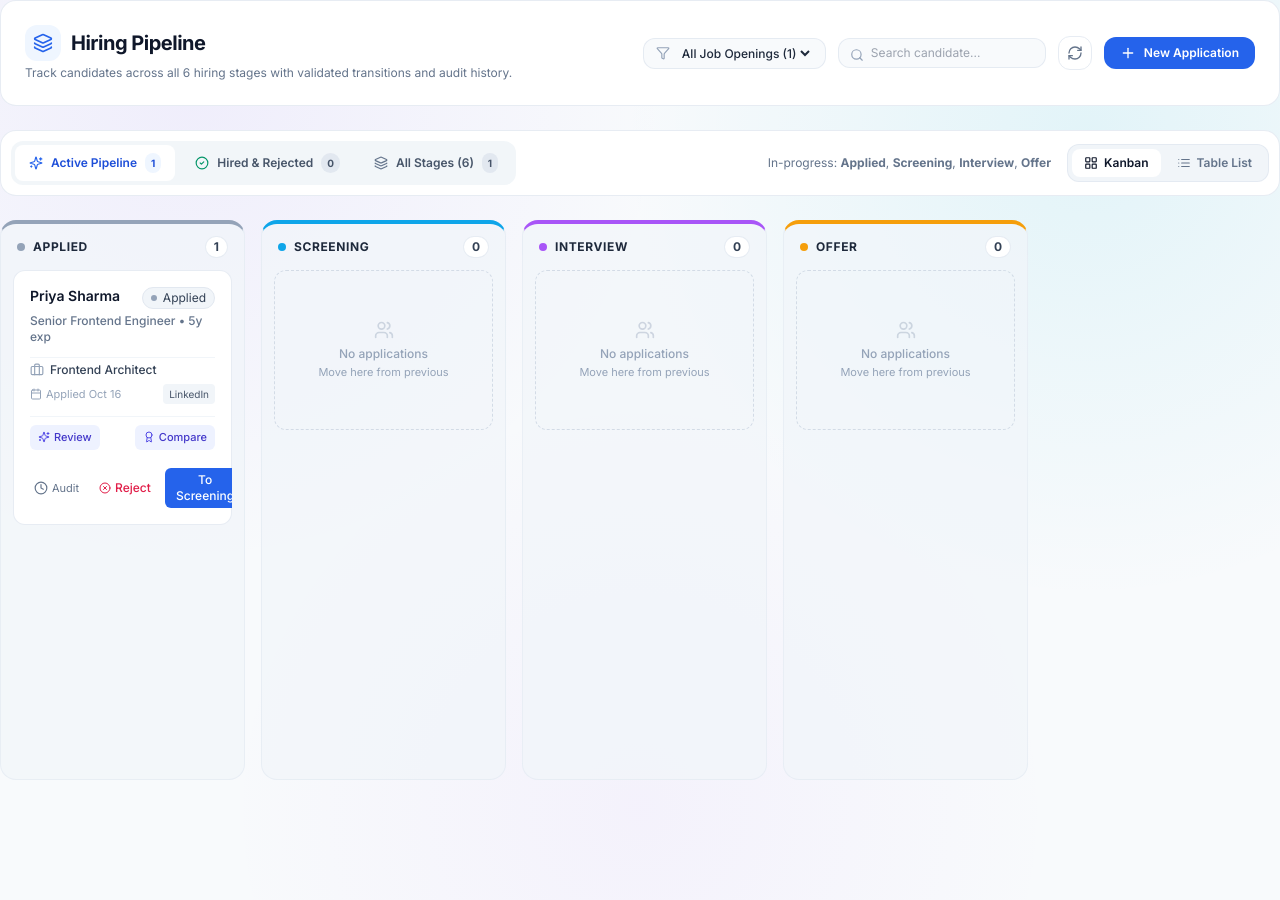
Test: PipelineView Component — Phase 5 UI Verification › 4. Opens rejection modal, enters optional reason, and submits rejection
Expected: the heading "Priya Sharma" is shown, [30,287,120,304]
Click the button named "Reject application for Priya Sharma": x=125, y=488 [91,476,159,500]
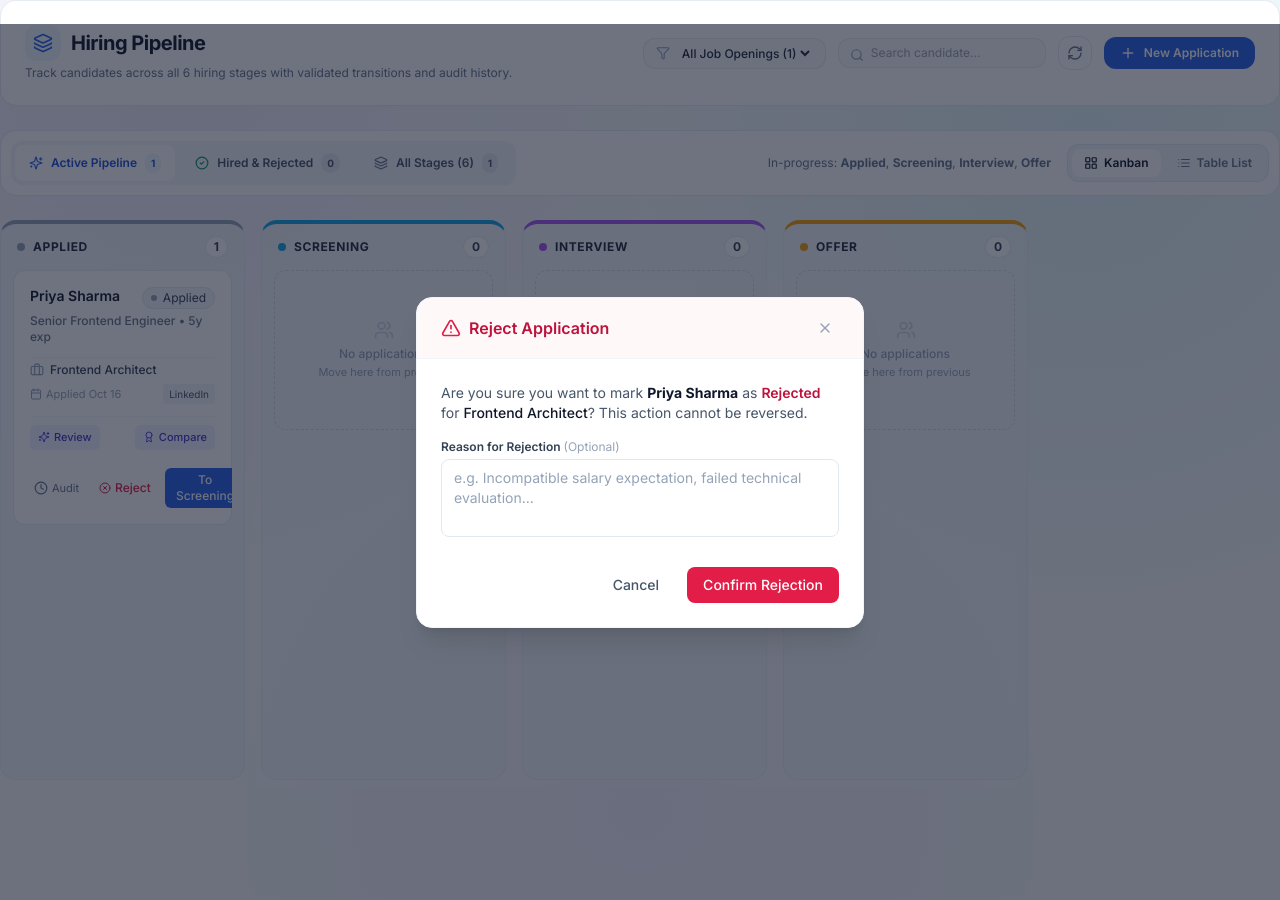
Now the heading "Reject Application" is shown, box [469,316,609,340]
Replace the text in the text box labelled "Reason for Rejection (Optional)" with "Compensation misalignment": x=640, y=498 [441,458,839,536]
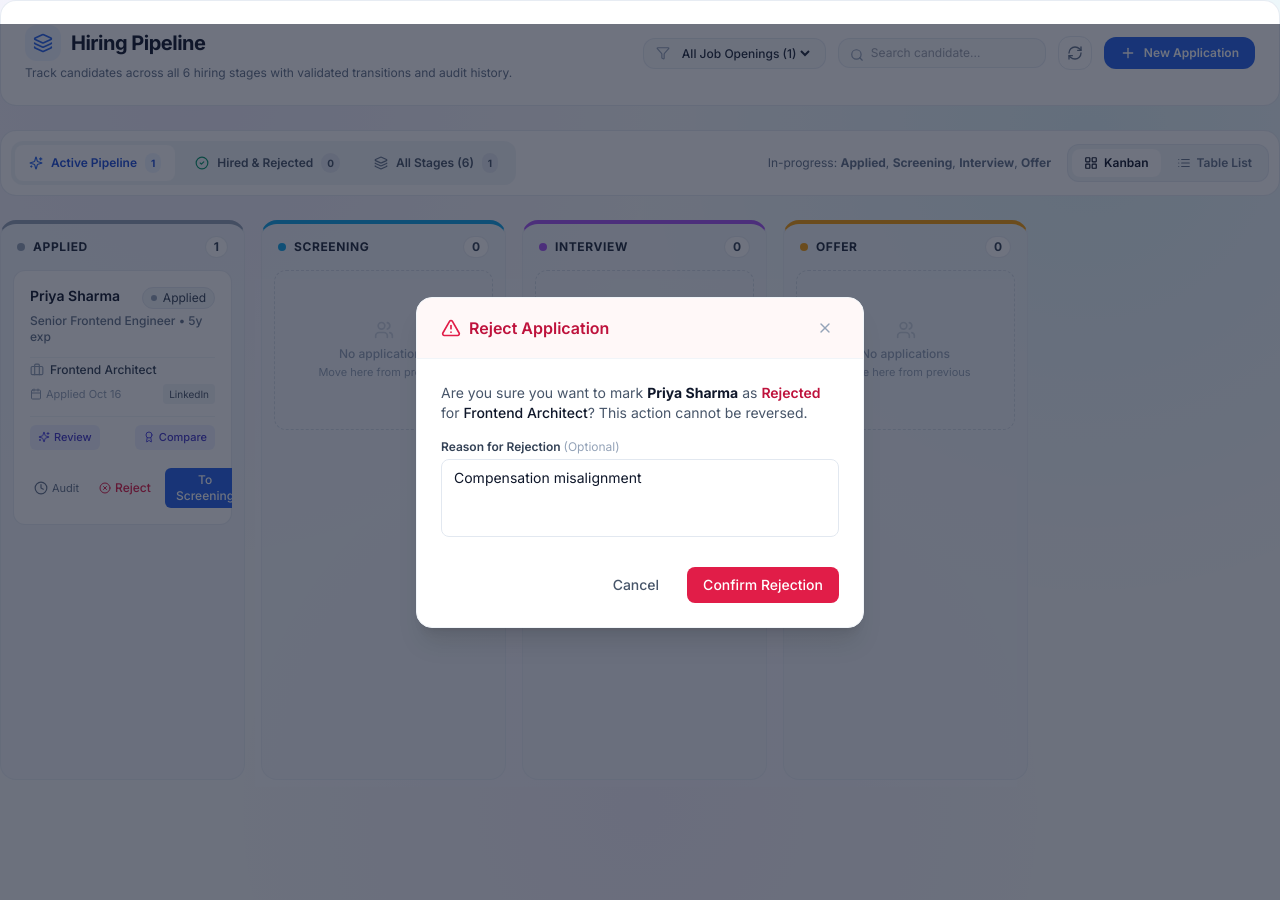
Click the button "Confirm Rejection": x=763, y=584 [687,566,839,602]
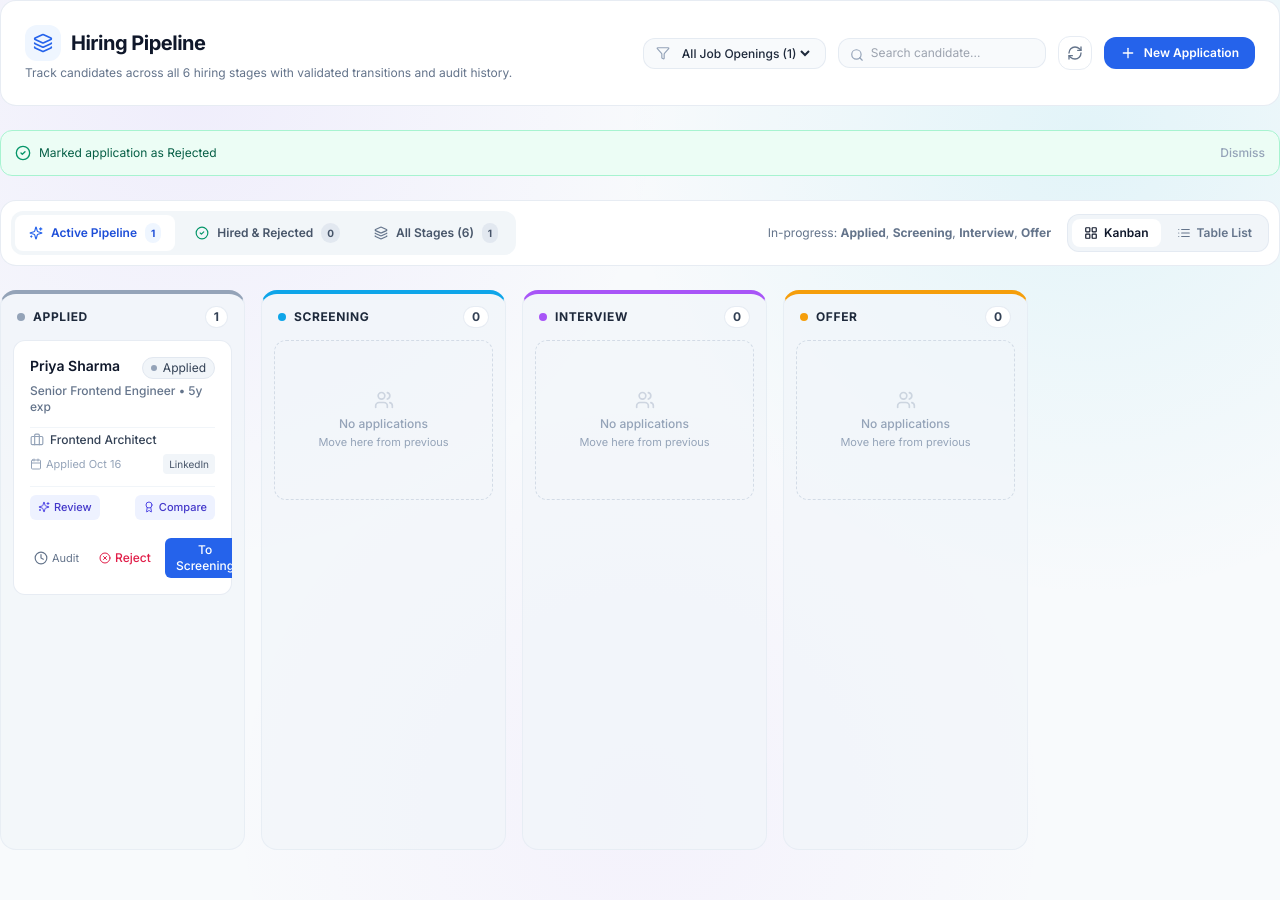
Now the text "Marked application as Rejected" is shown, box [39,145,217,161]
